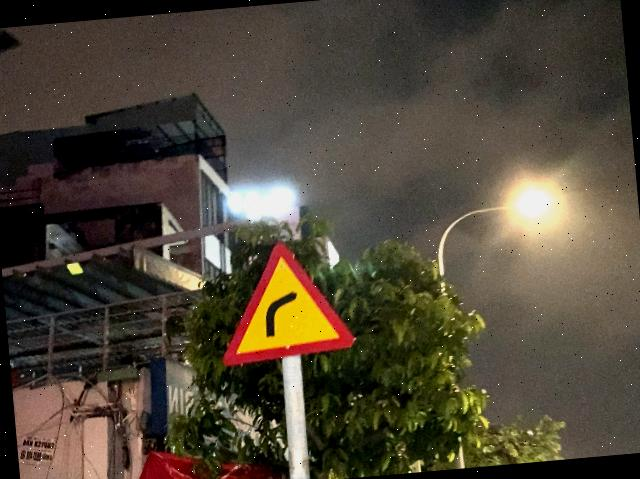cho-ngoat-nguy-hiem-ben-trai: (212, 234, 356, 367)
